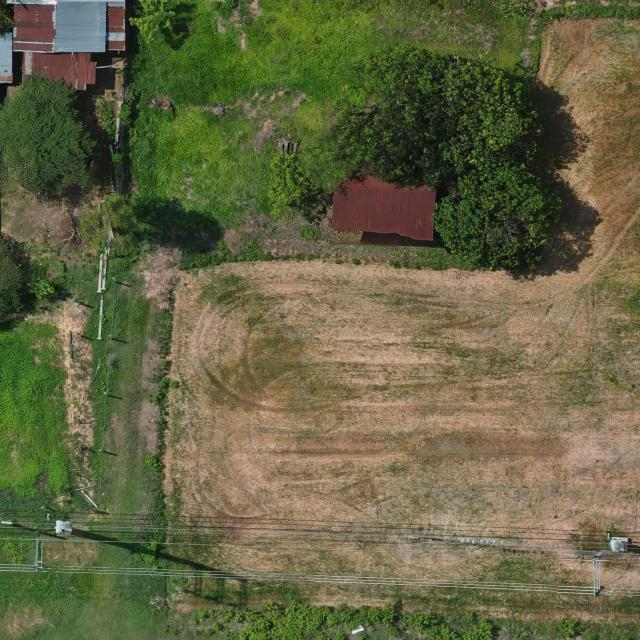Tree: (332, 42, 536, 186), (432, 162, 560, 276), (0, 73, 98, 200), (78, 192, 140, 257), (265, 150, 314, 220), (0, 235, 28, 328), (128, 0, 176, 46), (26, 277, 55, 300)
